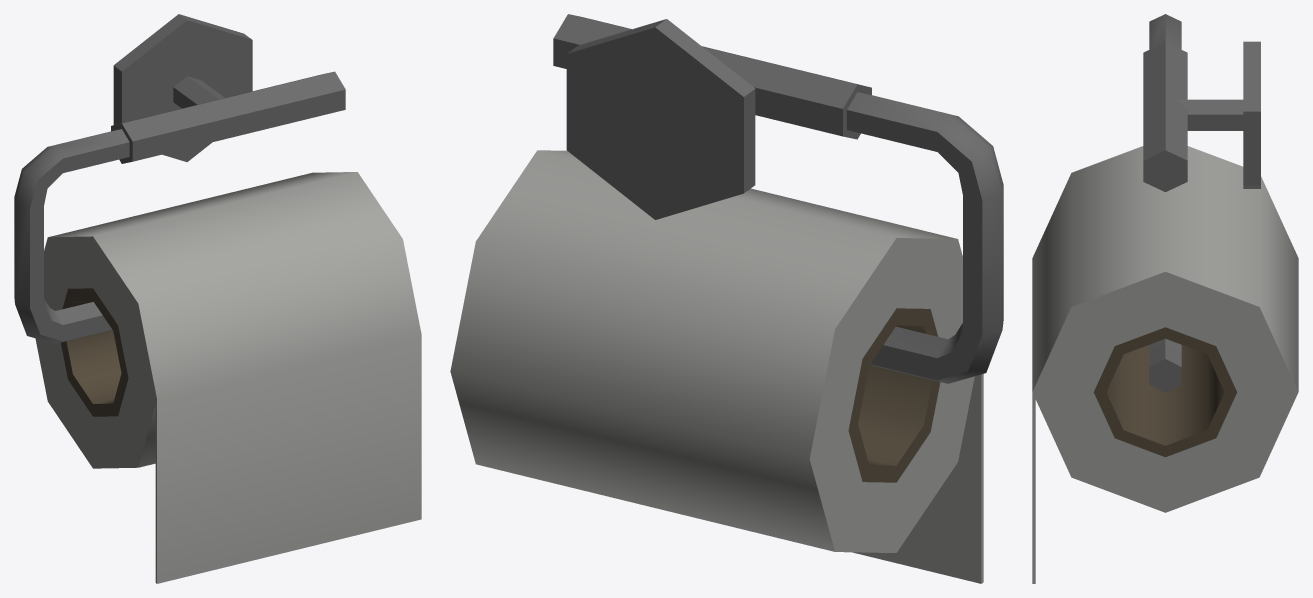
Rendered from Bathroom_ToiletPaper.glb.
The picture shows the model from 3 angles, left to right: view 1: azimuth 30°, elevation 25°; view 2: azimuth 150°, elevation 25°; view 3: azimuth 270°, elevation 25°; orthographic projection. The views are drawn at different scales.
Visible parts, largest first — view 1: Bathroom_ToiletPaper; view 2: Bathroom_ToiletPaper; view 3: Bathroom_ToiletPaper.
Boxes of the visible parts, x1,y1,x2,y2 form: Bathroom_ToiletPaper: (14, 14, 421, 583); Bathroom_ToiletPaper: (450, 14, 1003, 583); Bathroom_ToiletPaper: (1032, 14, 1298, 583).
Size of the model in its own units: 0.1467 by 0.1684 by 0.0855.
Materials: 3 (3 with a texture image).
